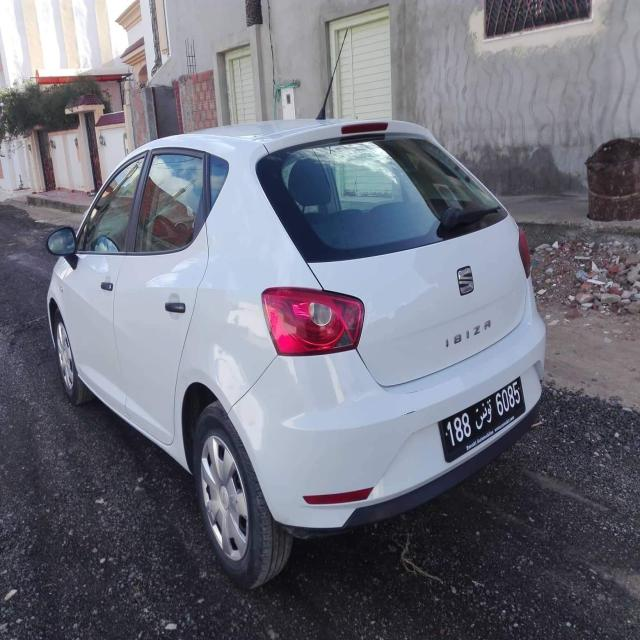LP: (439, 373, 523, 465)
